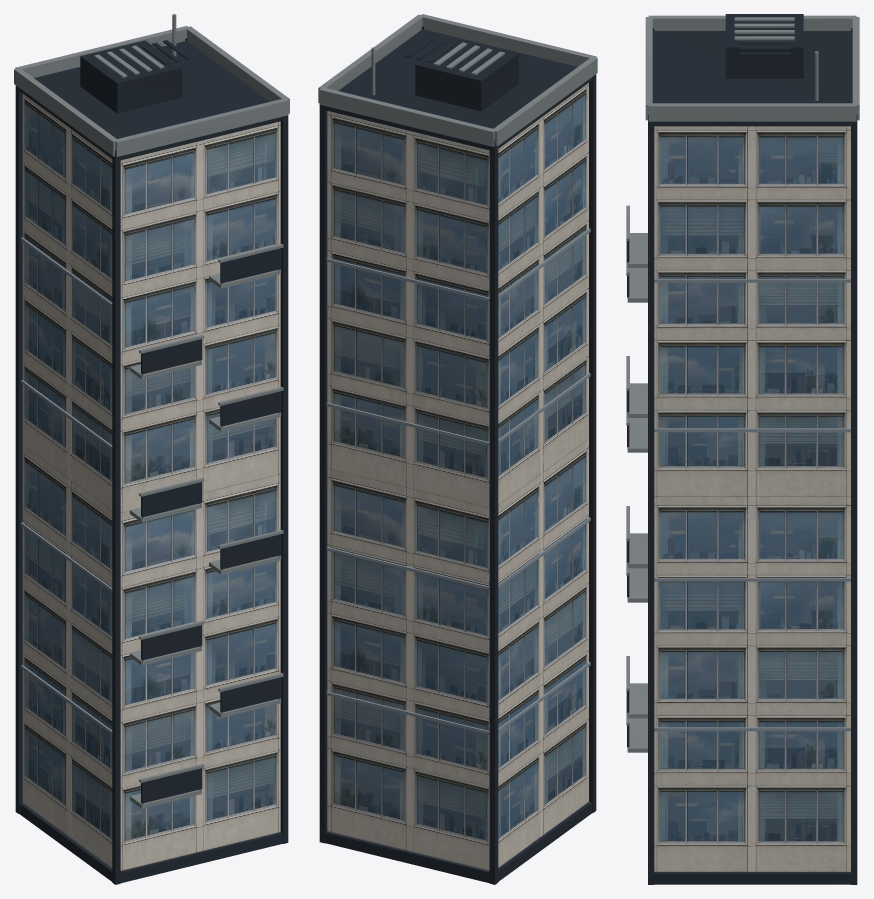
Rendered from building_lod.glb.
3 renders of one model, left to right at view 1: azimuth 30°, elevation 25°; view 2: azimuth 150°, elevation 25°; view 3: azimuth 270°, elevation 25°, orthographic. The views are drawn at different scales.
Visible parts, largest first — view 1: building_lod; view 2: building_lod; view 3: building_lod.
Boxes of the visible parts, x1,y1,x2,y2 form: building_lod: (14,14,289,884); building_lod: (318,14,597,884); building_lod: (626,14,859,884).
Bounding box in the file's own units: 2.14 × 9 × 2.33.
3 materials, 1 textured.
